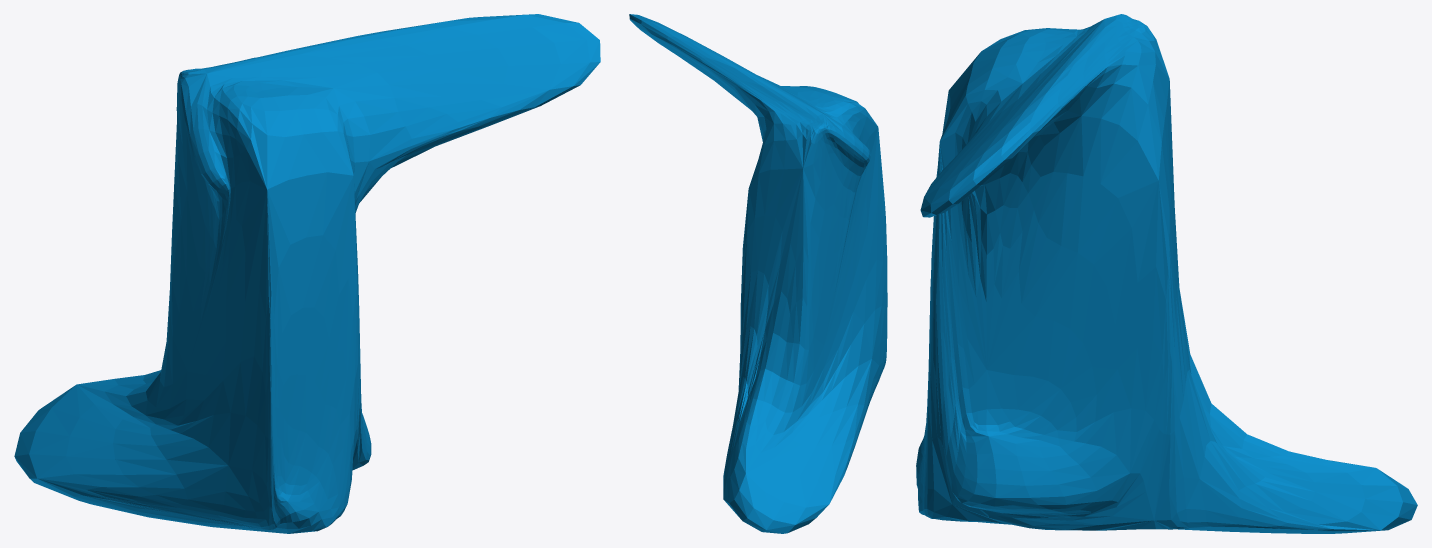
3 views of the same model, side by side, from view 1: azimuth 30°, elevation 25°; view 2: azimuth 150°, elevation 25°; view 3: azimuth 270°, elevation 25° (orthographic). The views are drawn at different scales.
Visible parts, largest first — view 1: 604_Cube.2431; view 2: 604_Cube.2431; view 3: 604_Cube.2431.
Part boxes in pixels (box(x1,y1,x2,y2)): 604_Cube.2431: box(14, 14, 600, 533); 604_Cube.2431: box(629, 14, 887, 533); 604_Cube.2431: box(916, 14, 1417, 533).
Bounding box in the file's own units: 12.67 × 14.28 × 11.41.
